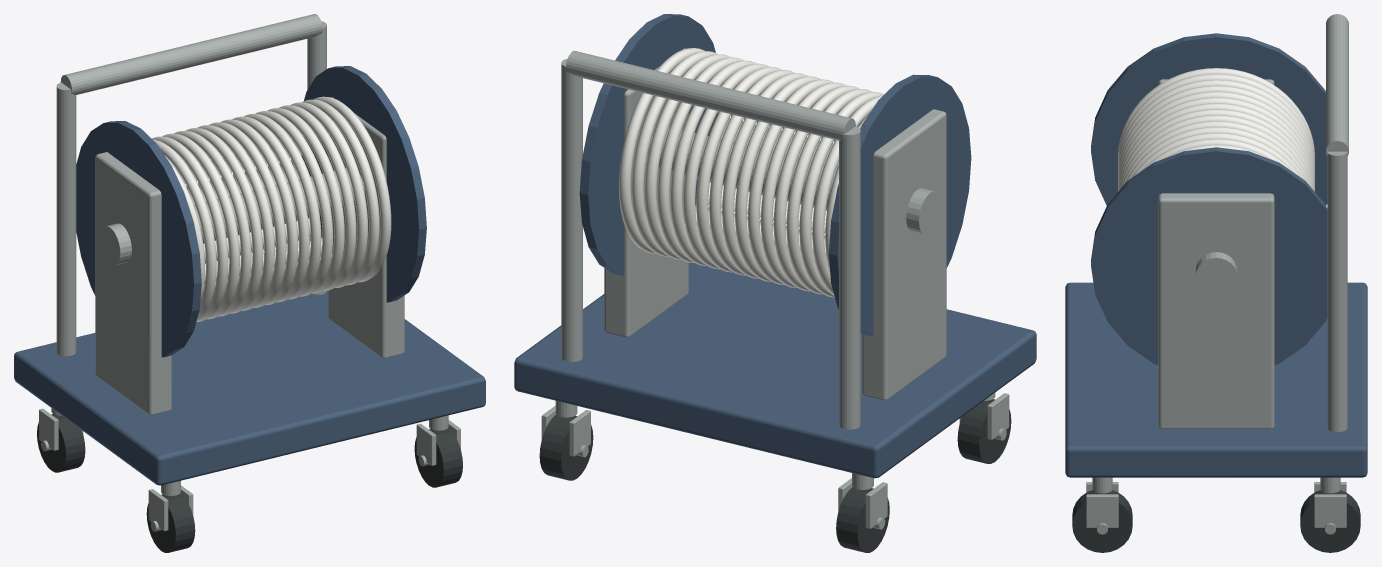
The model's file is spacecraft-parachute-packing-hall-spacecraft-parachute-57856223__32085.glb.
3 views of the same model, side by side, from view 1: azimuth 30°, elevation 25°; view 2: azimuth 150°, elevation 25°; view 3: azimuth 270°, elevation 25° (orthographic). The views are drawn at different scales.
Visible parts, largest first — view 1: spacecraft-parachute-packing-hall-line-reel-trolley; view 2: spacecraft-parachute-packing-hall-line-reel-trolley; view 3: spacecraft-parachute-packing-hall-line-reel-trolley.
Part boxes in pixels (x1,y1,x2,y2): spacecraft-parachute-packing-hall-line-reel-trolley: (14, 14, 485, 552); spacecraft-parachute-packing-hall-line-reel-trolley: (514, 14, 1036, 552); spacecraft-parachute-packing-hall-line-reel-trolley: (1065, 14, 1367, 552).
Size of the model in its own units: 0.85 by 0.955 by 0.65.
